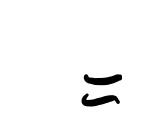eqv: (82, 74, 123, 107)
